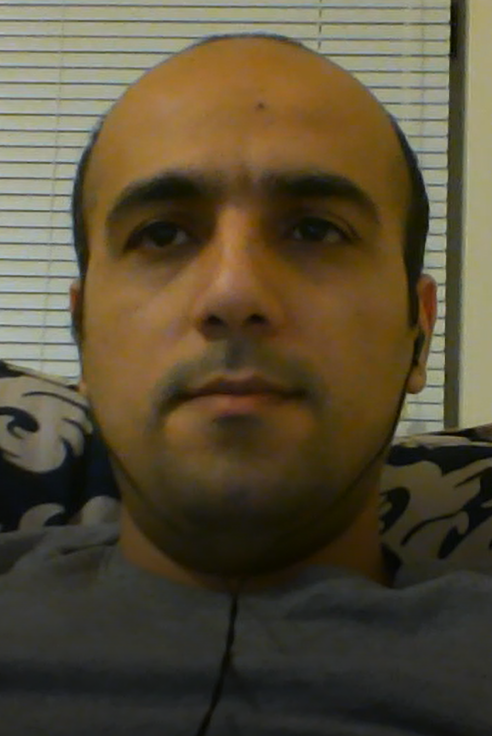Not Sleeping: (110, 168, 371, 282)
